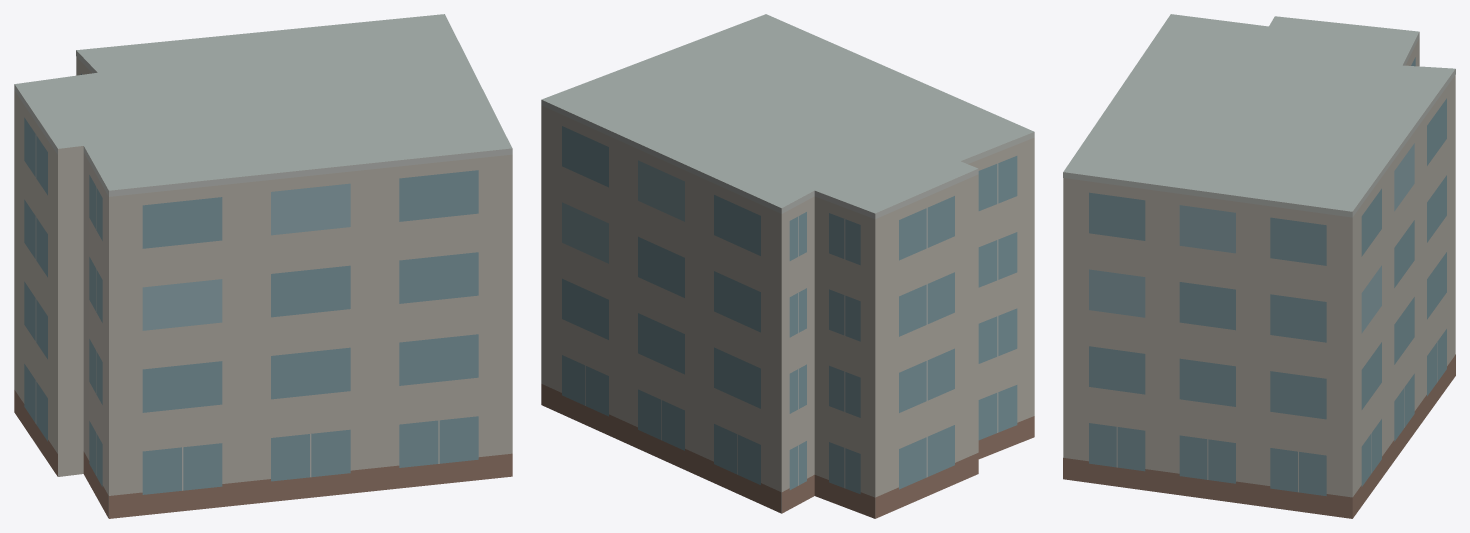
File: survey-upis-32790807.glb
The picture shows the model from 3 angles, left to right: view 1: azimuth 30°, elevation 25°; view 2: azimuth 150°, elevation 25°; view 3: azimuth 270°, elevation 25°; orthographic projection. The views are drawn at different scales.
Parts seen in each view (by area): view 1: survey-upis-32790807.tmp; view 2: survey-upis-32790807.tmp; view 3: survey-upis-32790807.tmp.
Part boxes in pixels (x1=…): survey-upis-32790807.tmp: x1=14, y1=14, x2=512, y2=518; survey-upis-32790807.tmp: x1=541, y1=14, x2=1034, y2=518; survey-upis-32790807.tmp: x1=1063, y1=14, x2=1455, y2=518.
Size of the model in its own units: 17.92 by 12.97 by 15.04.
